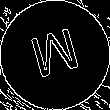M_S: (26, 24, 84, 86)
